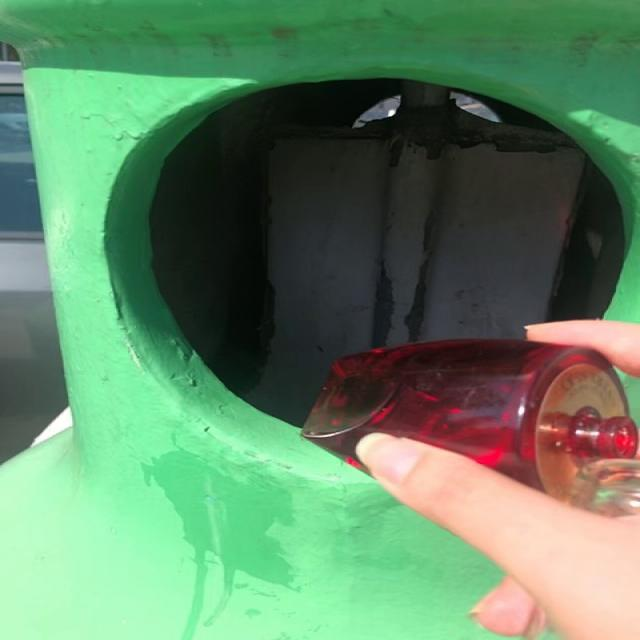glass: (303, 340, 640, 500)
